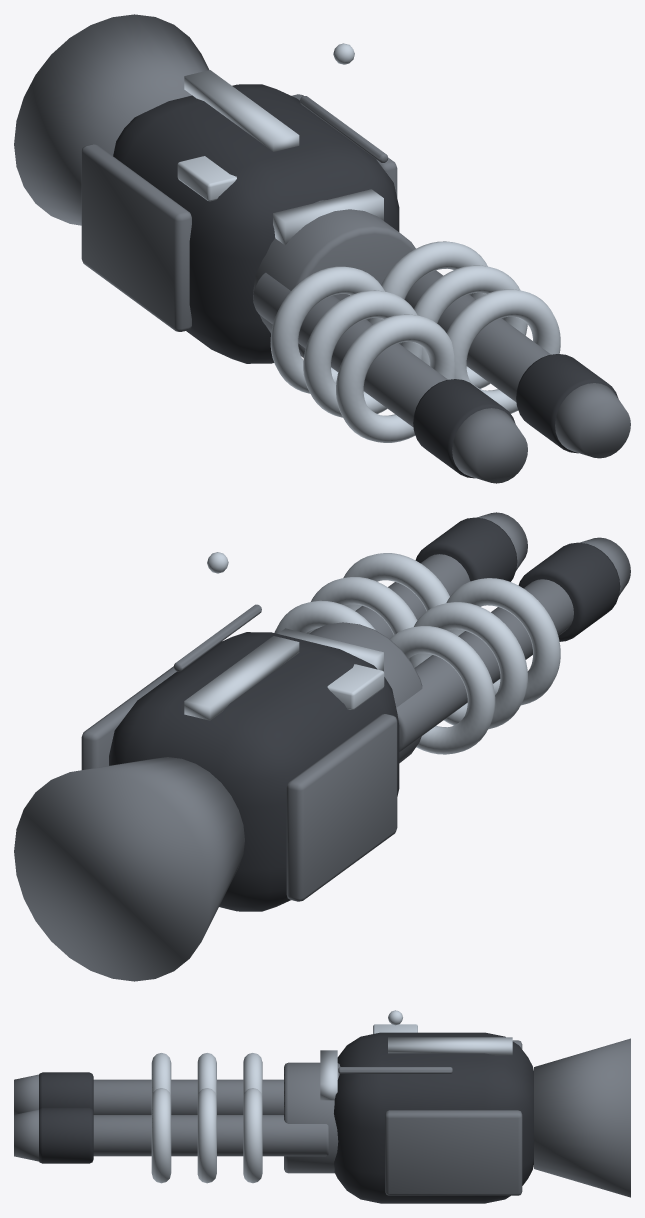
Rendered from weapon_drone_blazer.glb.
3 renders of one model, top to bottom at view 1: azimuth 30°, elevation 25°; view 2: azimuth 150°, elevation 25°; view 3: azimuth 270°, elevation 25°, orthographic. The views are drawn at different scales.
Parts seen in each view (by area): view 1: weapon_drone_blazer; view 2: weapon_drone_blazer; view 3: weapon_drone_blazer.
Boxes of the visible parts, left/top/right/bottom form: weapon_drone_blazer: left=14, top=14, right=630, bottom=483; weapon_drone_blazer: left=14, top=512, right=630, bottom=981; weapon_drone_blazer: left=14, top=1010, right=630, bottom=1203.
Size of the model in its own units: 0.5184 by 0.64 by 1.78.
